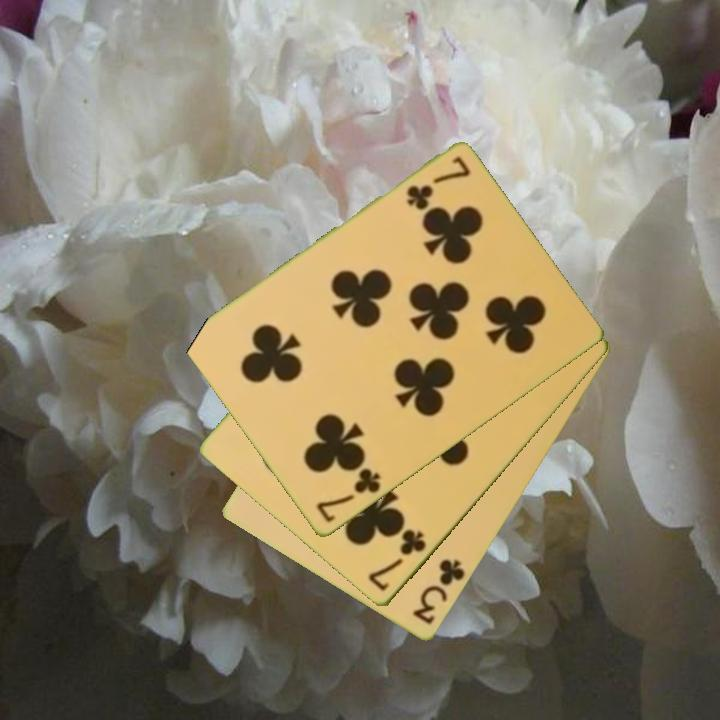3c: (409, 556, 469, 628)
7c: (364, 525, 429, 595), (312, 465, 384, 527), (403, 153, 474, 214)
